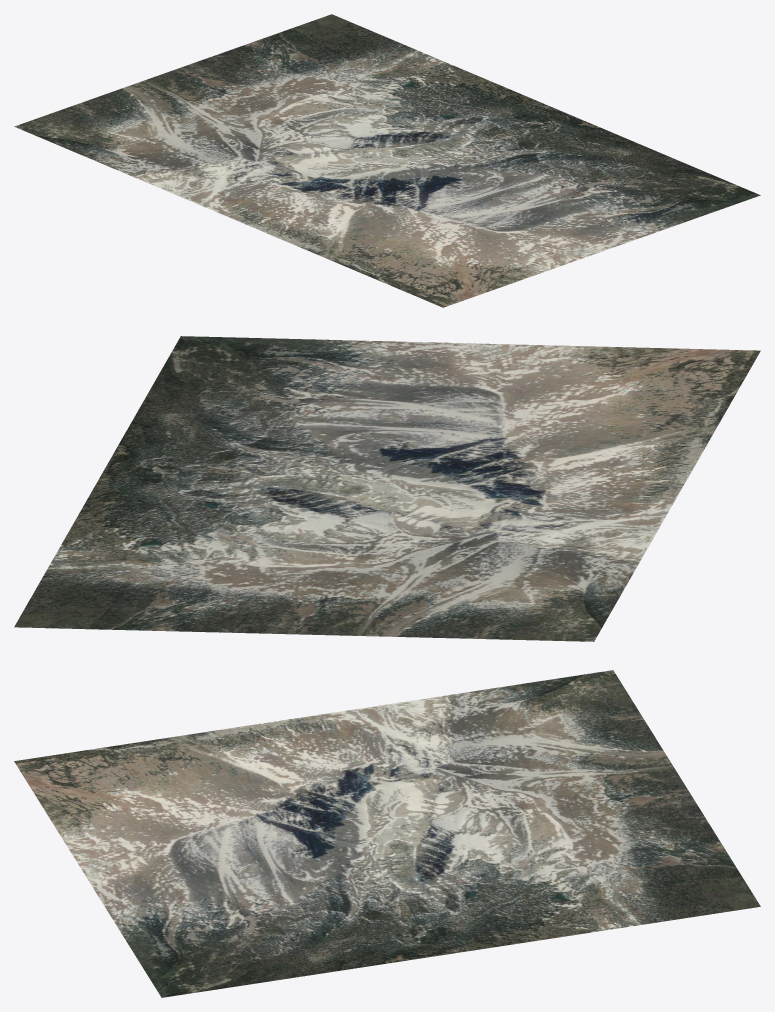
File: greatbasin.glb
3 renders of one model, top to bottom at view 1: azimuth 30°, elevation 25°; view 2: azimuth 150°, elevation 25°; view 3: azimuth 270°, elevation 25°, orthographic. The views are drawn at different scales.
Visible parts, largest first — view 1: EXPORT_GOOGLE_SAT_WM; view 2: EXPORT_GOOGLE_SAT_WM; view 3: EXPORT_GOOGLE_SAT_WM.
Part boxes in pixels (left/top/right/bottom): EXPORT_GOOGLE_SAT_WM: left=14, top=14, right=760, bottom=307; EXPORT_GOOGLE_SAT_WM: left=14, top=336, right=760, bottom=641; EXPORT_GOOGLE_SAT_WM: left=14, top=670, right=760, bottom=997.
Size of the model in its own units: 6455 by 518 by 7284.
Materials: 1 (1 with a texture image).
